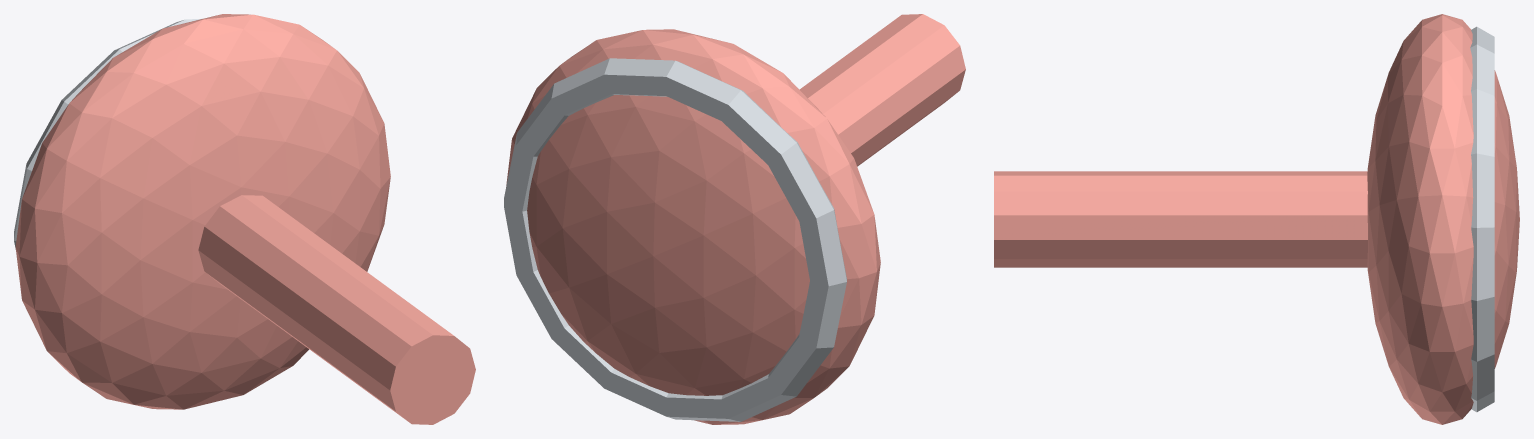
File: ventosa_1.glb
3 renders of one model, left to right at view 1: azimuth 30°, elevation 25°; view 2: azimuth 150°, elevation 25°; view 3: azimuth 270°, elevation 25°, orthographic. The views are drawn at different scales.
Parts seen in each view (by area): view 1: copa, tubo, aro; view 2: copa, aro, tubo; view 3: copa, tubo, aro.
Boxes of the visible parts, left/top/right/bottom form: copa: left=15, top=14, right=390, bottom=409; tubo: left=198, top=195, right=475, bottom=424; aro: left=14, top=18, right=202, bottom=249; copa: left=506, top=29, right=880, bottom=424; aro: left=504, top=58, right=846, bottom=421; tubo: left=799, top=14, right=965, bottom=166; copa: left=1367, top=14, right=1519, bottom=424; tubo: left=994, top=171, right=1367, bottom=267; aro: left=1470, top=26, right=1494, bottom=412.
Bounding box in the file's own units: 0.7082 × 0.7082 × 0.9.
